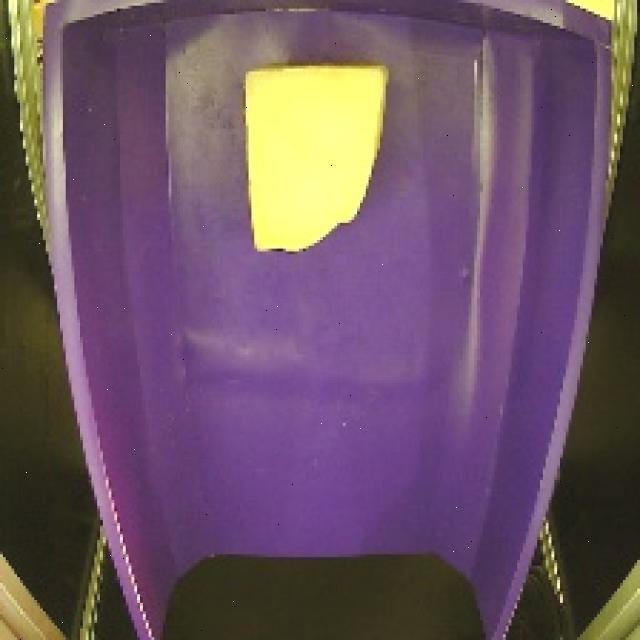potato: (237, 51, 392, 262)
